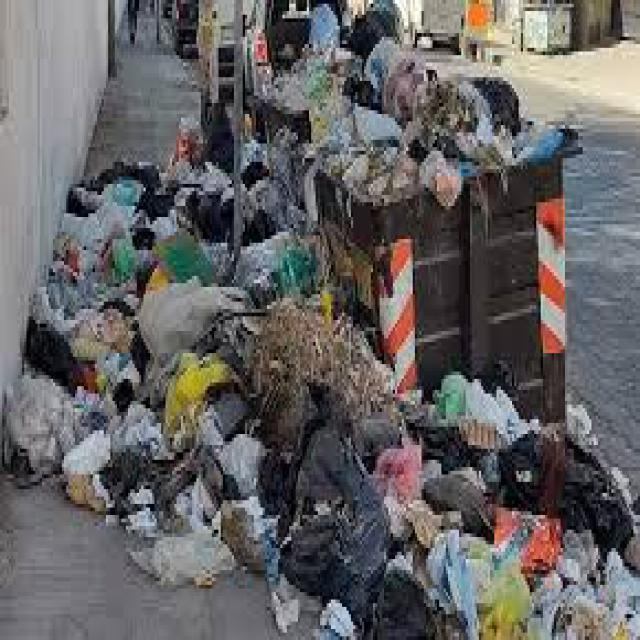Trashbag: (236, 428, 418, 612)
